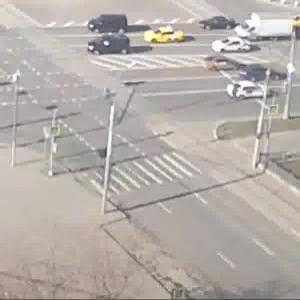car: (143, 23, 194, 48), (92, 34, 137, 56), (243, 14, 287, 36), (242, 66, 293, 82), (194, 15, 239, 33), (217, 39, 261, 56), (87, 17, 130, 34), (232, 89, 280, 104), (205, 54, 242, 70)
